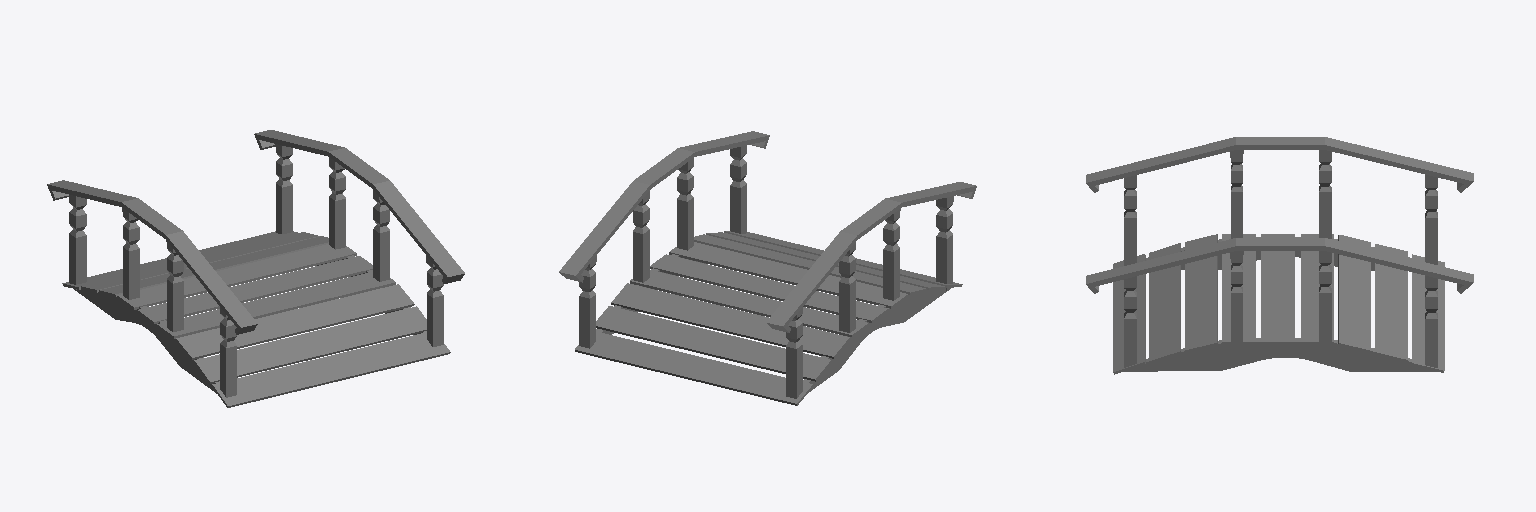
Rendered from bridge3.obj.
The picture shows the model from 3 angles: view 1: azimuth 30°, elevation 25°; view 2: azimuth 150°, elevation 25°; view 3: azimuth 270°, elevation 25°; orthographic projection.
Parts seen in each view (by area): view 1: Line07; view 2: Line07; view 3: Line07.
Part boxes in pixels (bbox=[...]): Line07: bbox=[47, 130, 464, 407]; Line07: bbox=[559, 131, 976, 405]; Line07: bbox=[1086, 137, 1473, 374].
Bounding box in the file's own units: 909 × 499 × 1365.